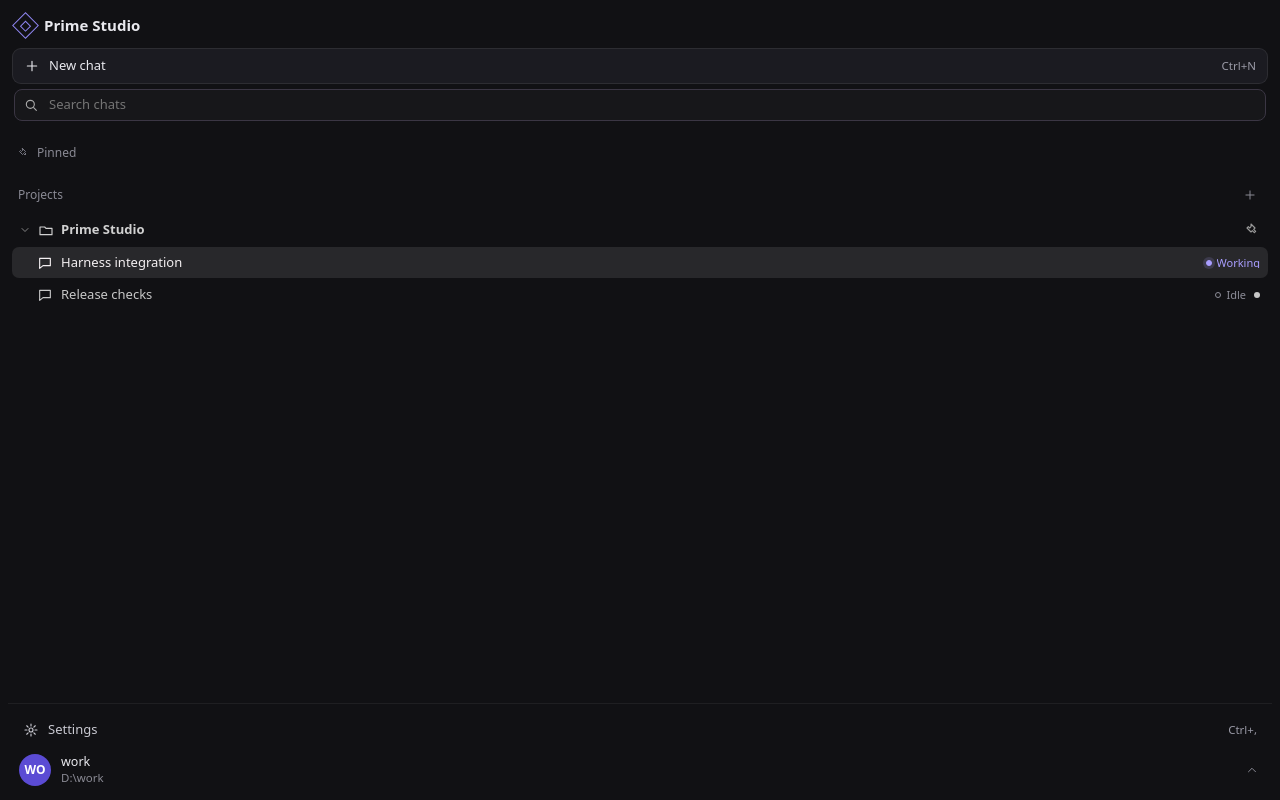
ProjectSidebar › collects a project name and folder before requesting durable creation
Click the button named "New project": (1250, 195) x1=1238 y1=179 x2=1262 y2=211
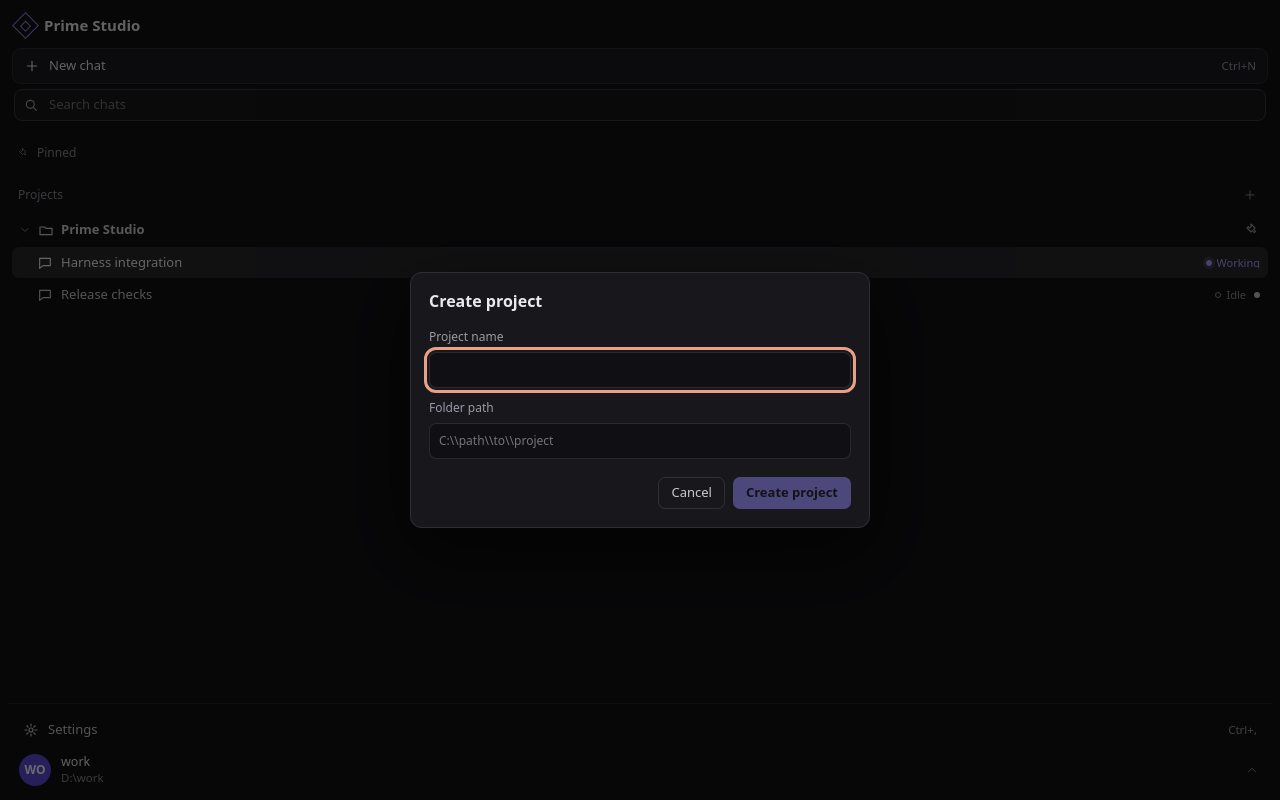
In the field labelled "Project name": (640, 370) x1=429 y1=352 x2=851 y2=388, type "Studio source"
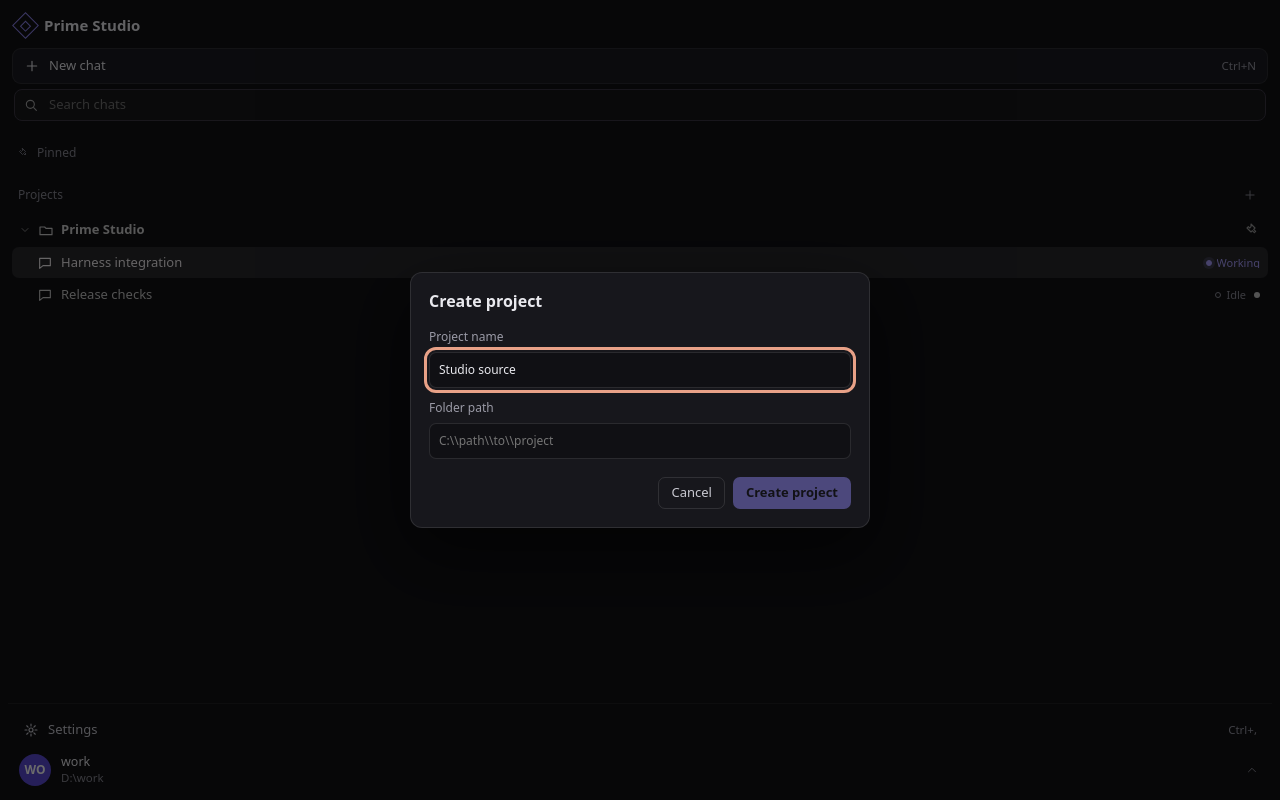
In the field labelled "Folder path": (640, 441) x1=429 y1=423 x2=851 y2=459, type "C:\\src\\prime-studio"
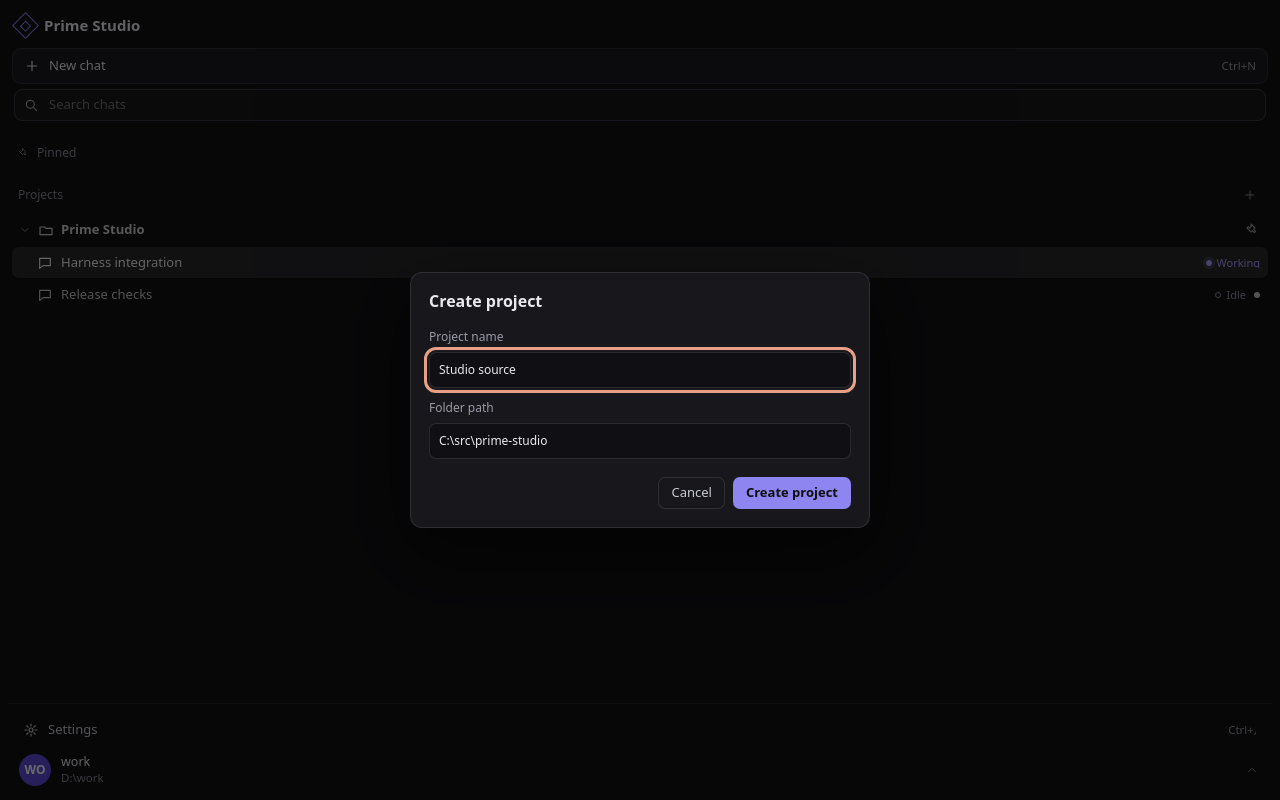
Click the button "Create project": (792, 493) x1=733 y1=477 x2=851 y2=509
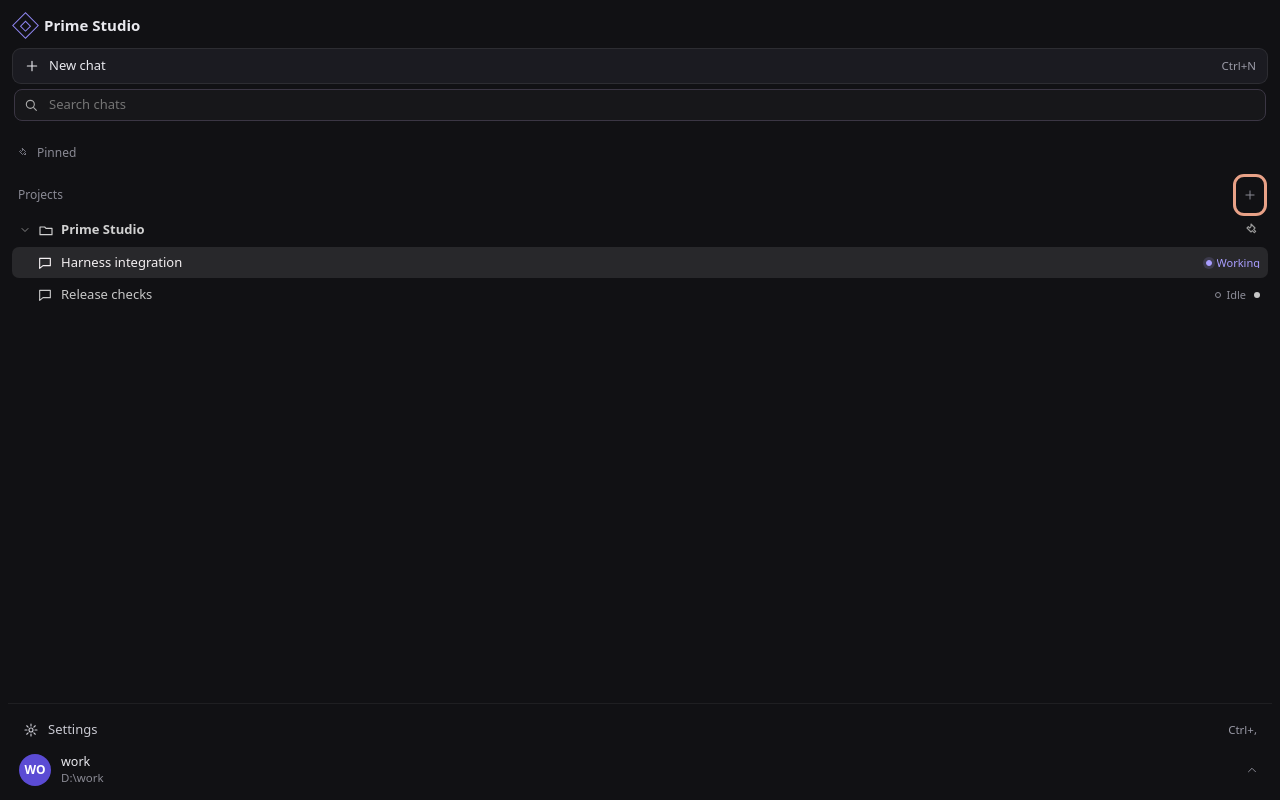
Expected: the heading "Create project" is gone
